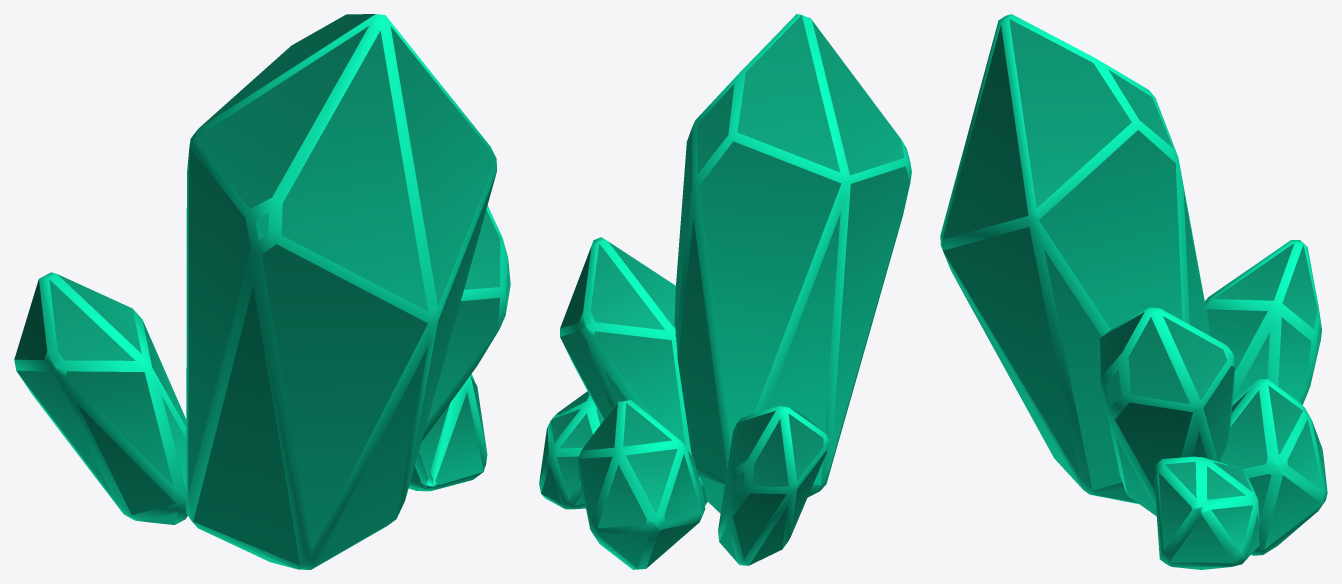
The model's file is Cristal_v4.fbx.
3 views of the same model, side by side, from view 1: azimuth 30°, elevation 25°; view 2: azimuth 150°, elevation 25°; view 3: azimuth 270°, elevation 25° (orthographic). The views are drawn at different scales.
Visible parts, largest first — view 1: Cristal_v4; view 2: Cristal_v4; view 3: Cristal_v4.
Part boxes in pixels (x1=…): Cristal_v4: x1=14, y1=14, x2=510, y2=569; Cristal_v4: x1=539, y1=14, x2=911, y2=569; Cristal_v4: x1=940, y1=14, x2=1327, y2=569.
Bounding box in the file's own units: 3.05 × 3.18 × 4.62.
